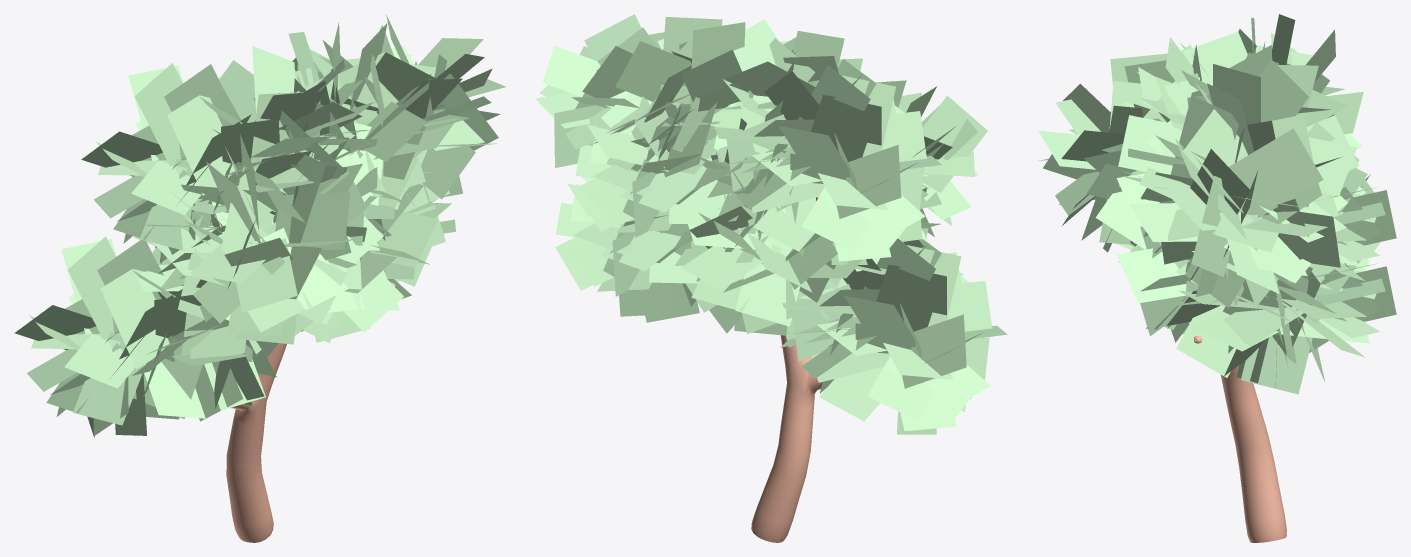
The model's file is tree_03.fbx.
The picture shows the model from 3 angles, left to right: view 1: azimuth 30°, elevation 25°; view 2: azimuth 150°, elevation 25°; view 3: azimuth 270°, elevation 25°; orthographic projection. The views are drawn at different scales.
Parts seen in each view (by area): view 1: Tree_03; view 2: Tree_03; view 3: Tree_03.
Boxes of the visible parts, x1=… form: Tree_03: x1=14, y1=15, x2=505, y2=542; Tree_03: x1=535, y1=14, x2=1007, y2=542; Tree_03: x1=1038, y1=14, x2=1396, y2=542.
Size of the model in its own units: 645 by 674 by 434.
